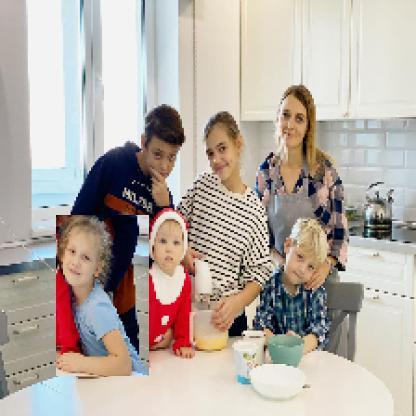child: (57, 216, 151, 378), (125, 208, 196, 360), (259, 218, 332, 353)
